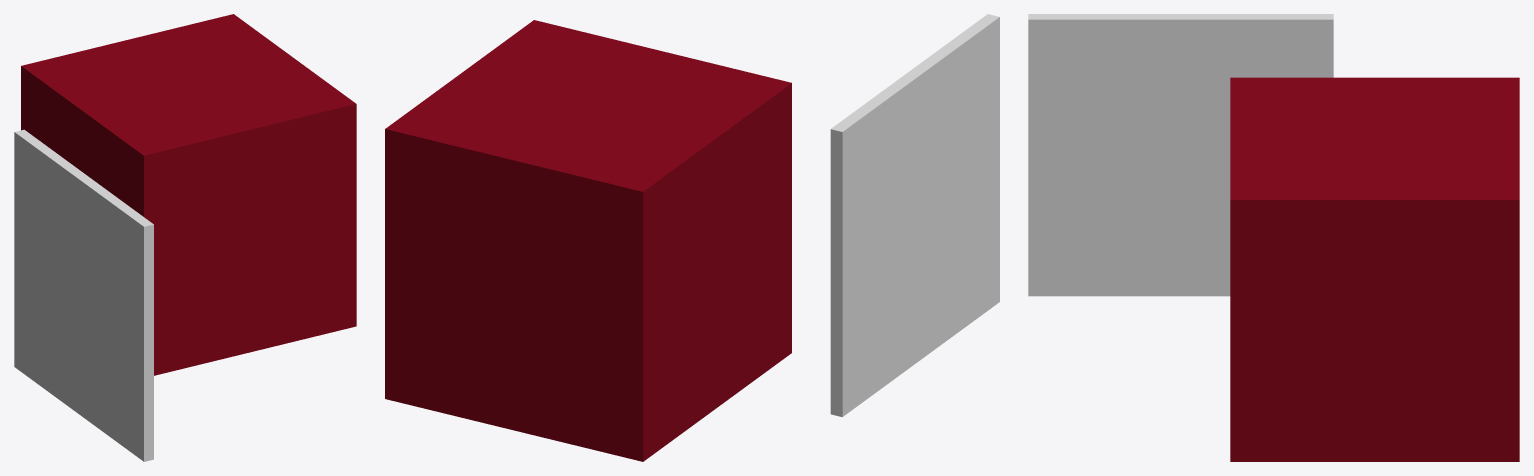
File: glastest.gltf
3 views of the same model, side by side, from view 1: azimuth 30°, elevation 25°; view 2: azimuth 150°, elevation 25°; view 3: azimuth 270°, elevation 25° (orthographic). The views are drawn at different scales.
Size of the model in its own units: 0.0559 by 0.0421 by 0.0677.
